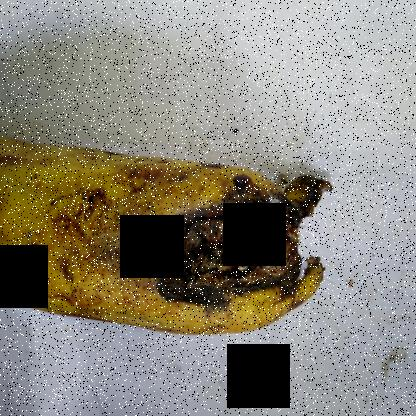ripe: (0, 124, 183, 329)
rotten: (120, 144, 328, 323)
